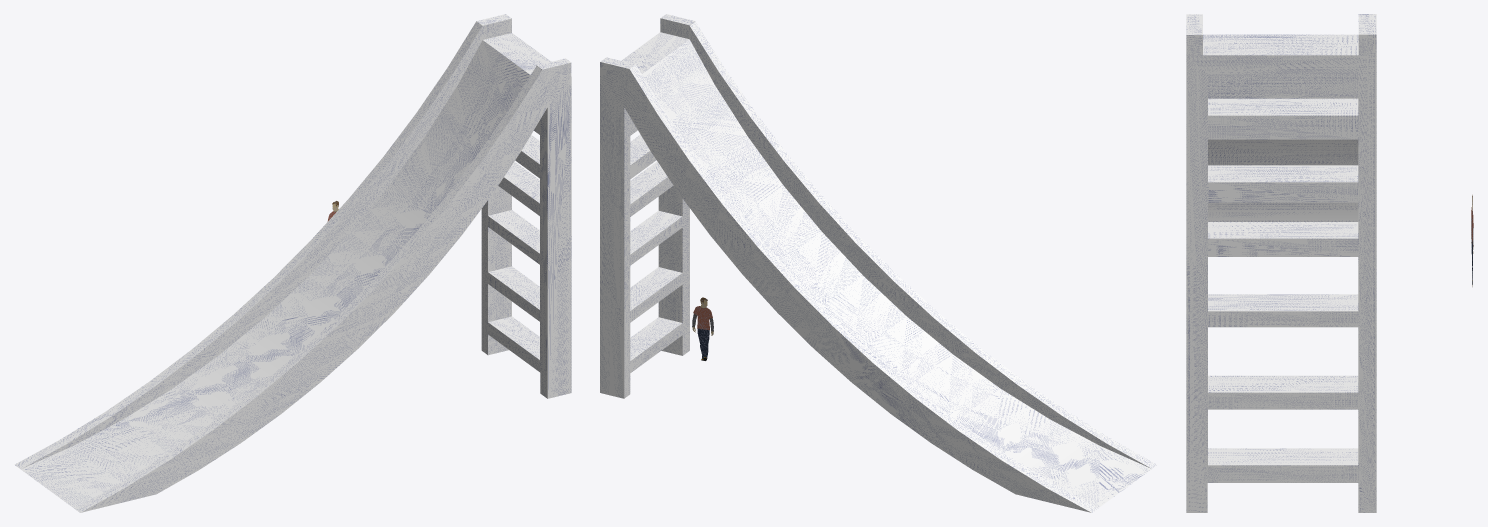
The model's file is slide.dae.
3 renders of one model, left to right at view 1: azimuth 30°, elevation 25°; view 2: azimuth 150°, elevation 25°; view 3: azimuth 270°, elevation 25°, orthographic. The views are drawn at different scales.
Parts seen in each view (by area): view 1: SketchUp (×5); view 2: SketchUp (×5); view 3: SketchUp (×7).
Part boxes in pixels (bbox=[...]): SketchUp (×5): bbox=[14, 14, 571, 512]; SketchUp (×5): bbox=[600, 14, 1157, 512]; SketchUp (×7): bbox=[1186, 14, 1376, 512].
Size of the model in its own units: 576 by 202 by 371.
